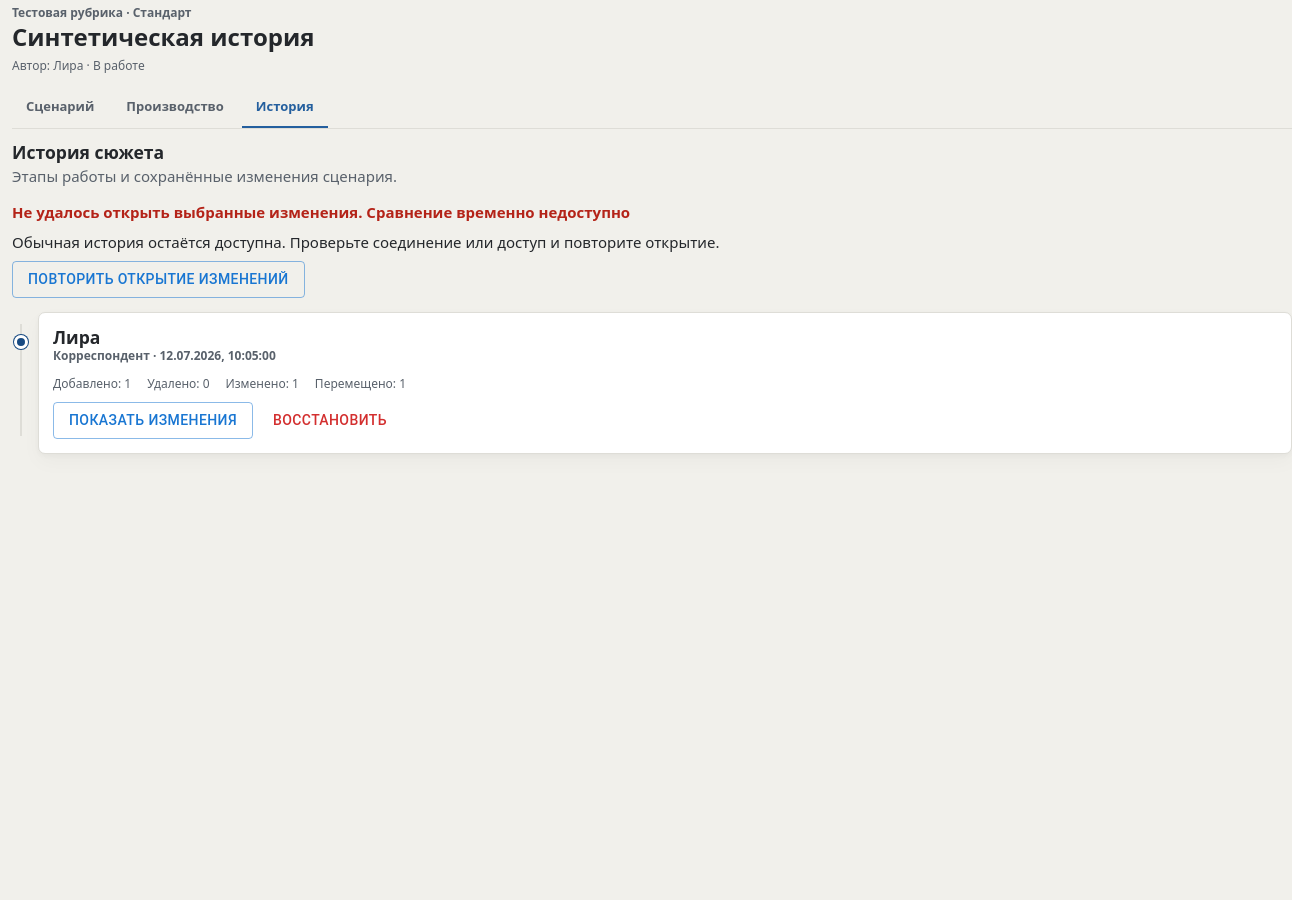
Test: history timeline › keeps normal history visible and retries a failed addressed detail
Expected: the heading "Лира" is shown, 53,325 -> 100,349
Expected: the message shows "Не удалось открыть выбранные изменения", 12,202 -> 362,222
What coordinates should you click on to do the following:
click the button "Повторить открытие изменений"
I would click on:
 (158, 280)
Its box is 12,261 -> 305,298.
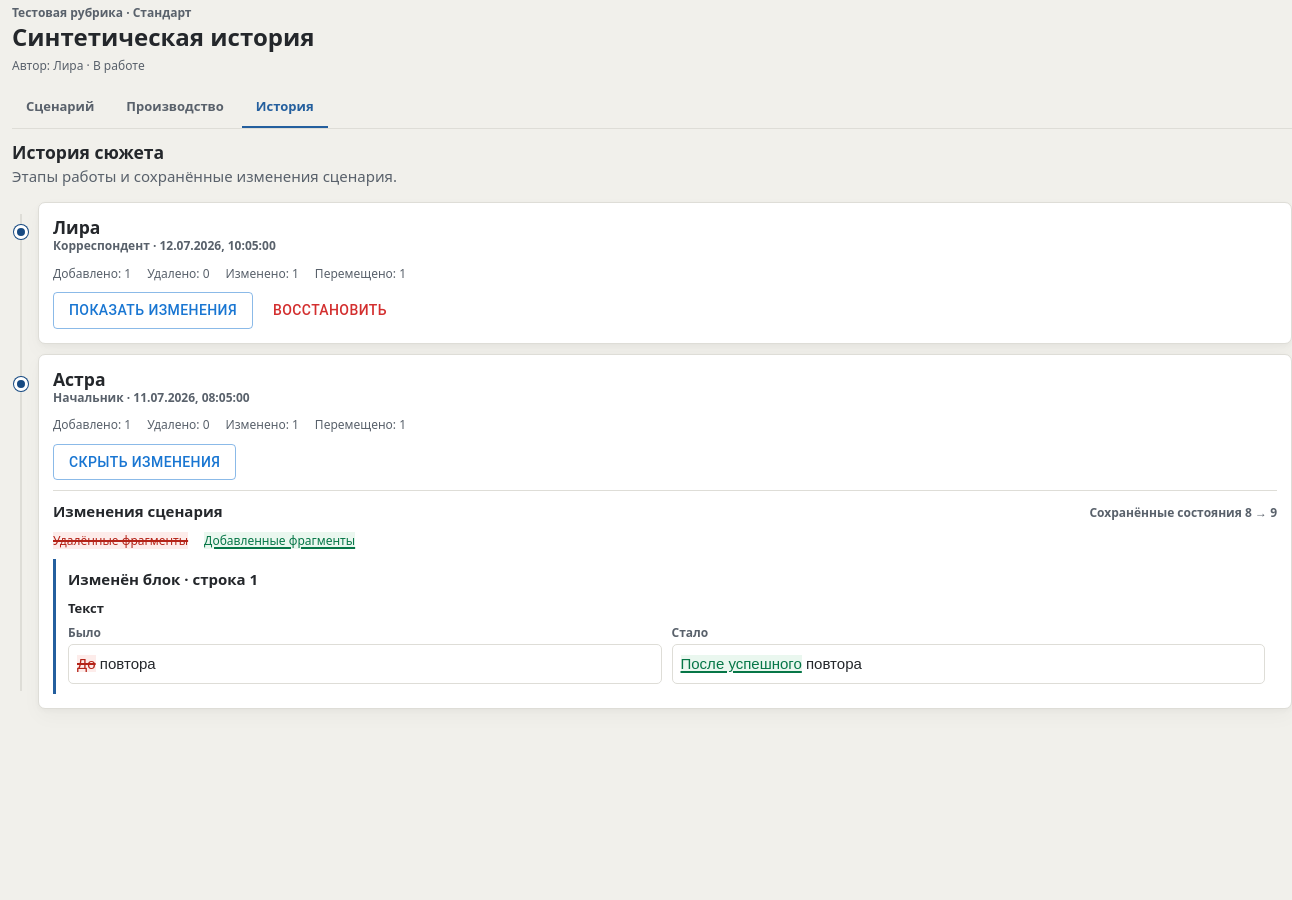
Expected: the message is gone
